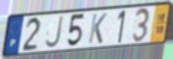1: (117, 9, 127, 45)
2: (21, 15, 42, 52)
3: (131, 6, 151, 45)
5: (66, 12, 87, 49)
J: (44, 14, 64, 50)
K: (87, 12, 109, 45)
